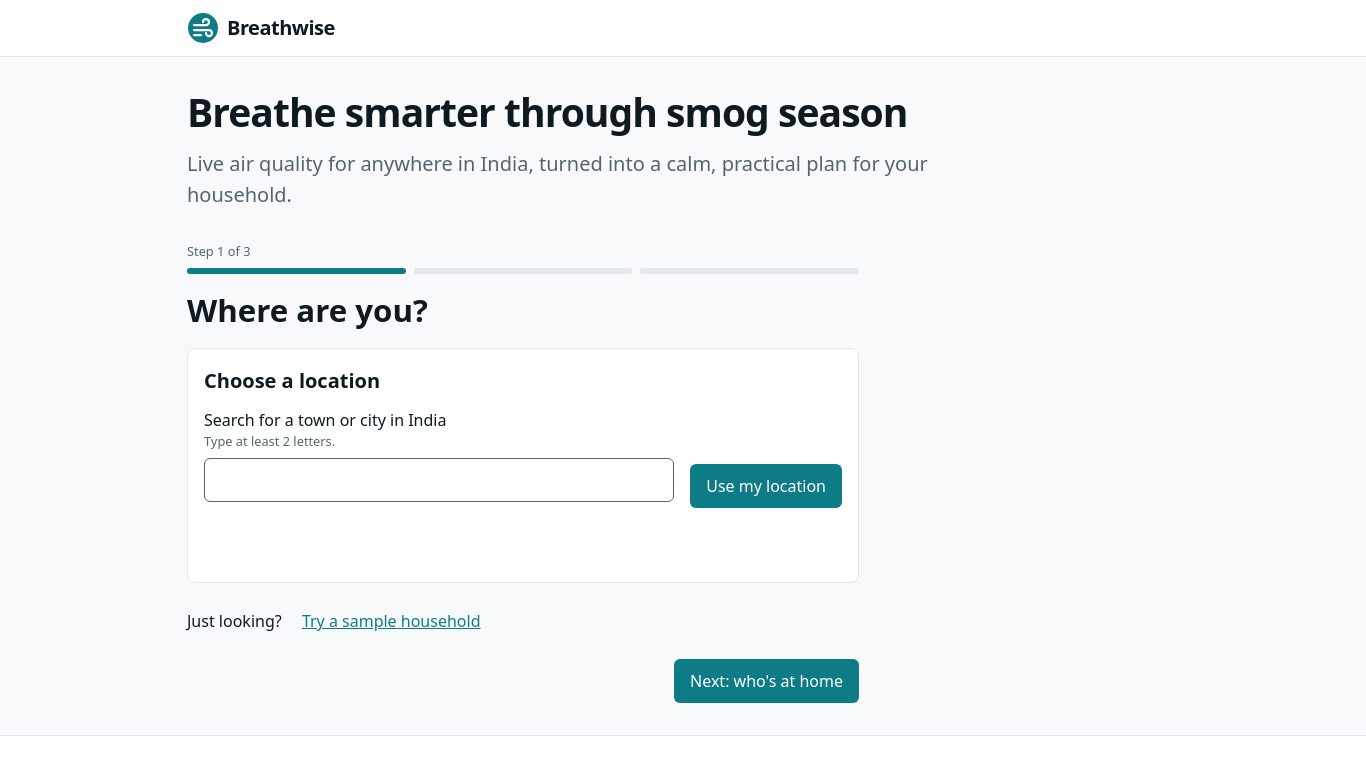
Test: onboarding › asks for a location before step 2
This screenshot has width=1366, height=761.
What coordinates should you click on to do the following:
click the button "Next: who's at home"
I would click on:
 (766, 681)
Its box is x1=674 y1=659 x2=859 y2=703.
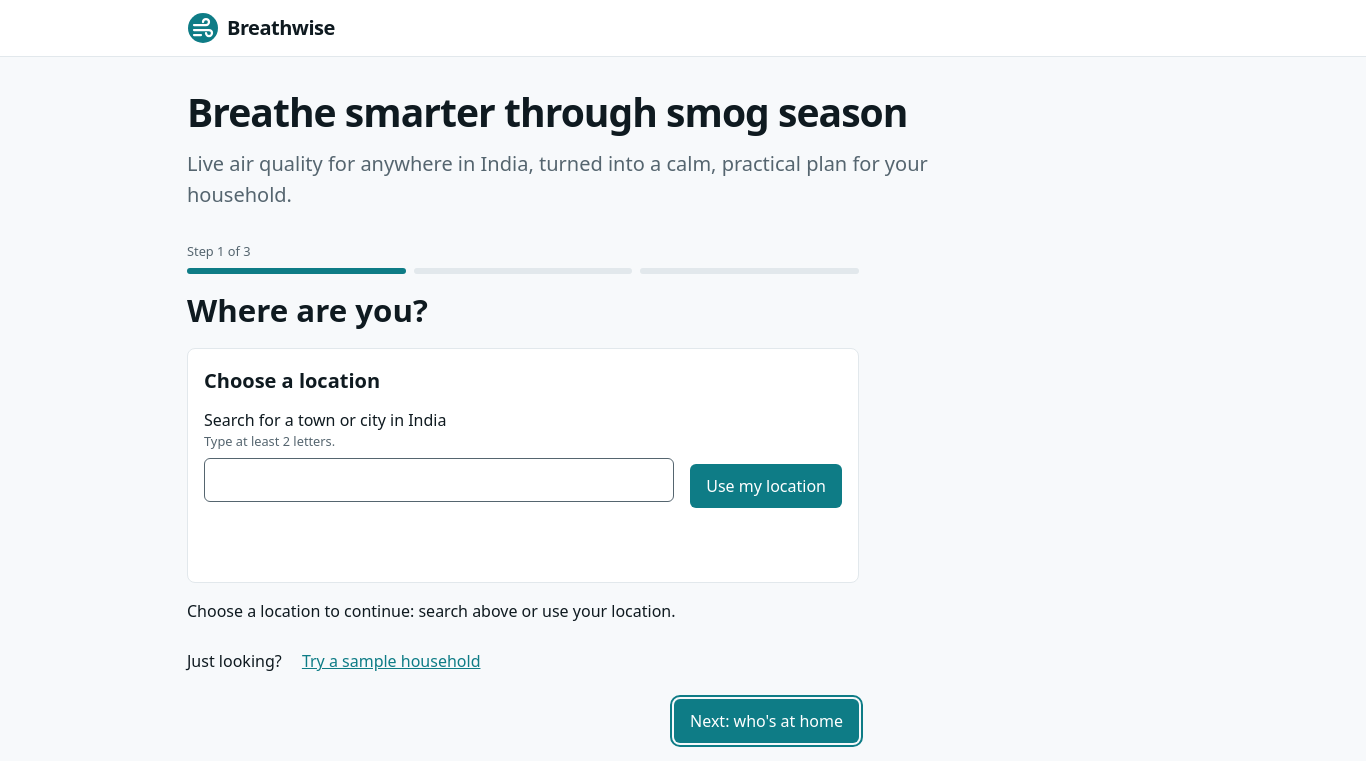
Expected: the text "Step 1 of 3" is shown, x1=187 y1=242 x2=250 y2=260
Expected: the message "Choose a location to continue: search above or use your location." is shown, x1=187 y1=600 x2=676 y2=622
